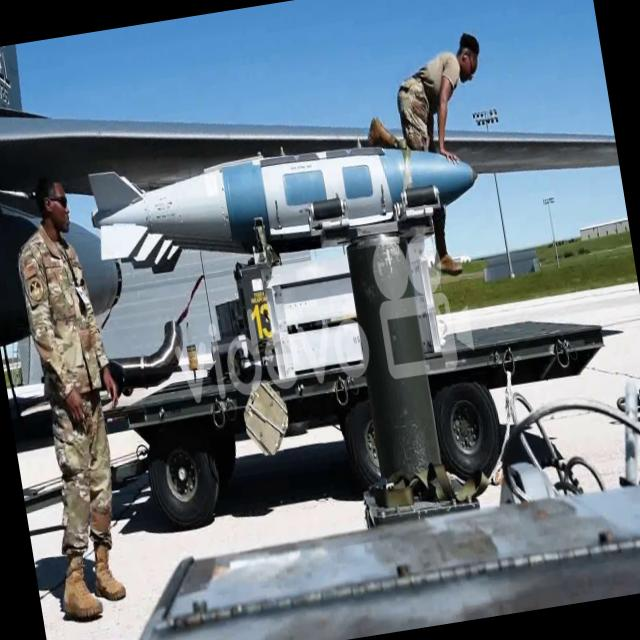rocket: (70, 101, 484, 286)
